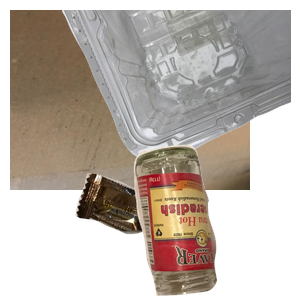cardboard: (10, 10, 250, 190)
glass: (131, 142, 300, 300)
plastic: (60, 10, 300, 162)
trash: (73, 171, 242, 300)
